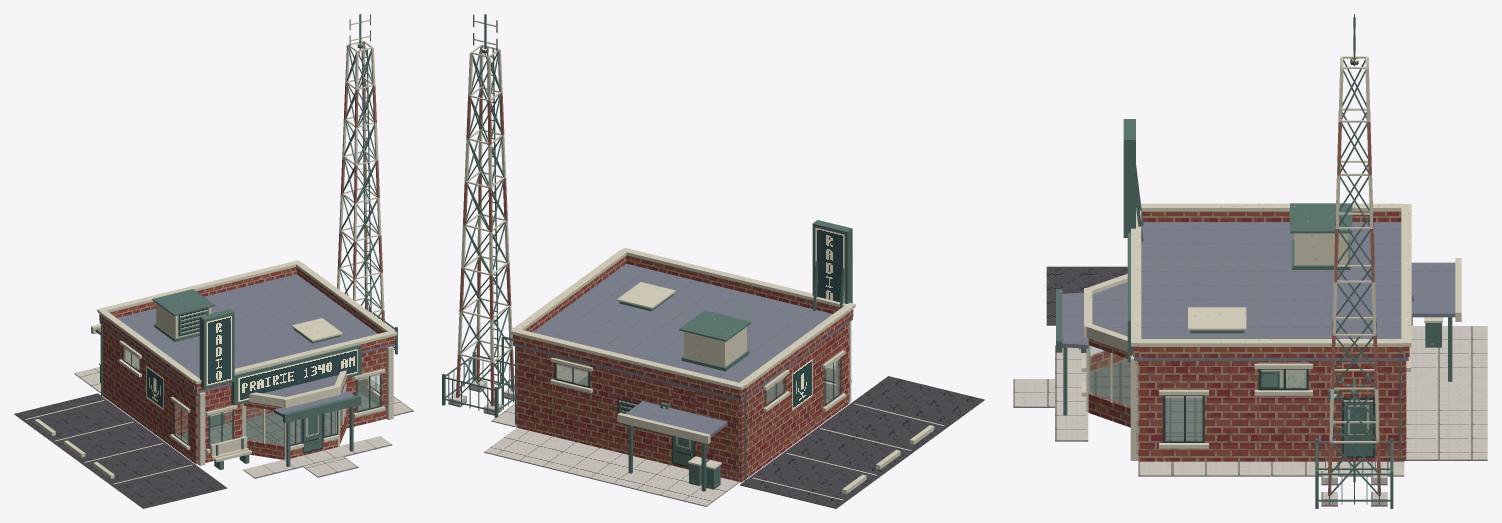
Rendered from radio-station-prairie-1340-am.glb.
3 views of the same model, side by side, from view 1: azimuth 30°, elevation 25°; view 2: azimuth 150°, elevation 25°; view 3: azimuth 270°, elevation 25° (orthographic). The views are drawn at different scales.
Parts seen in each view (by area): view 1: structure__wall_brick, structure__roof_membrane, lot__ground_asphalt, structure__detail_trim, structure__detail_steel, structure__glass_radio, antenna_mast__detail_steel, lot__ground_paving, antenna_mast__detail_trim, sign_name, structure__sign_name, structure__ground_floor (+5 smaller); view 2: structure__wall_brick, structure__roof_membrane, lot__ground_asphalt, structure__detail_trim, lot__ground_paving, antenna_mast__detail_steel, structure__detail_steel, antenna_mast__detail_trim, structure__sign_name, antenna_mast__detail_panels, structure__glass_radio, mast_fence__detail_steel (+2 smaller); view 3: structure__roof_membrane, structure__wall_brick, lot__ground_paving, structure__detail_trim, structure__detail_steel, structure__glass_radio, antenna_mast__detail_steel, antenna_mast__detail_trim, structure__ground_floor, lot__ground_asphalt, antenna_mast__detail_panels, panel_door_studio_exit__detail_panels (+2 smaller).
Boxes of the visible parts, x1,y1,x2,y2 form: structure__wall_brick: (99,267,395,464); structure__roof_membrane: (95,274,394,416); lot__ground_asphalt: (14,393,227,508); structure__detail_trim: (91,260,397,465); structure__detail_steel: (100,289,361,466); structure__glass_radio: (122,346,381,448); antenna_mast__detail_steel: (339,14,382,317); lot__ground_paving: (74,367,413,478); antenna_mast__detail_trim: (337,19,384,313); sign_name: (238,349,357,401); structure__sign_name: (146,316,231,409); structure__ground_floor: (178,392,377,451); structure__wall_brick: (512,255,853,482); structure__roof_membrane: (513,263,852,436); lot__ground_asphalt: (740,376,984,508); structure__detail_trim: (510,247,855,443); lot__ground_paving: (484,365,835,506); antenna_mast__detail_steel: (458,14,512,403); structure__detail_steel: (501,220,852,491); antenna_mast__detail_trim: (457,20,512,362); structure__sign_name: (792,227,844,409); antenna_mast__detail_panels: (456,88,514,406); structure__glass_radio: (554,357,841,406); mast_fence__detail_steel: (442,351,514,417); structure__roof_membrane: (1062,222,1455,360); structure__wall_brick: (1088,211,1409,461); lot__ground_paving: (1013,326,1487,476); structure__detail_trim: (1081,203,1461,460); structure__detail_steel: (1056,119,1452,482); structure__glass_radio: (1088,345,1308,442); antenna_mast__detail_steel: (1331,14,1377,494); antenna_mast__detail_trim: (1329,29,1379,443); structure__ground_floor: (1090,360,1202,440); lot__ground_asphalt: (1046,266,1412,325); antenna_mast__detail_panels: (1328,110,1380,496); panel_door_studio_exit__detail_panels: (1342,397,1375,457).
Size of what is drawn, in the model's own units: 21.32 by 19.56 by 17.69.
12 materials, 12 textured.
